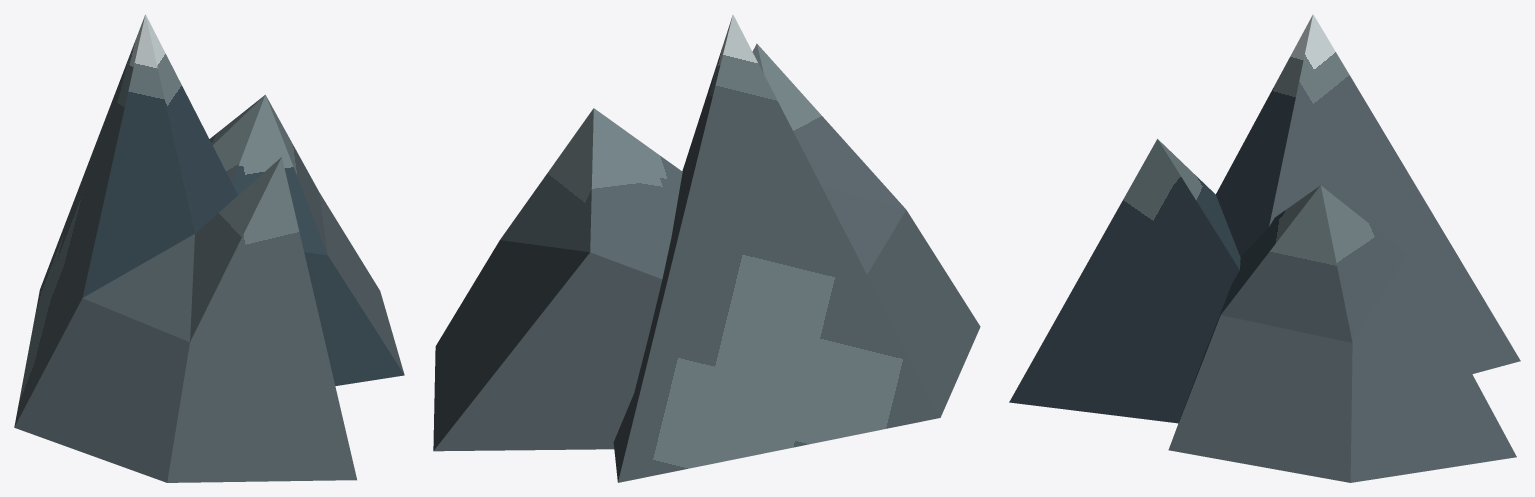
Rendered from mountain_1.gltf.
3 renders of one model, left to right at view 1: azimuth 30°, elevation 25°; view 2: azimuth 150°, elevation 25°; view 3: azimuth 270°, elevation 25°, orthographic. The views are drawn at different scales.
Visible parts, largest first — view 1: sphere (×2); view 2: sphere (×2); view 3: sphere (×2).
Boxes of the visible parts, x1,y1,x2,y2 form: sphere (×2): [14, 14, 404, 482]; sphere (×2): [433, 14, 980, 482]; sphere (×2): [1009, 14, 1520, 482].
Bounding box in the file's own units: 0.7759 × 0.6562 × 0.8432.
1 material, 1 textured.
